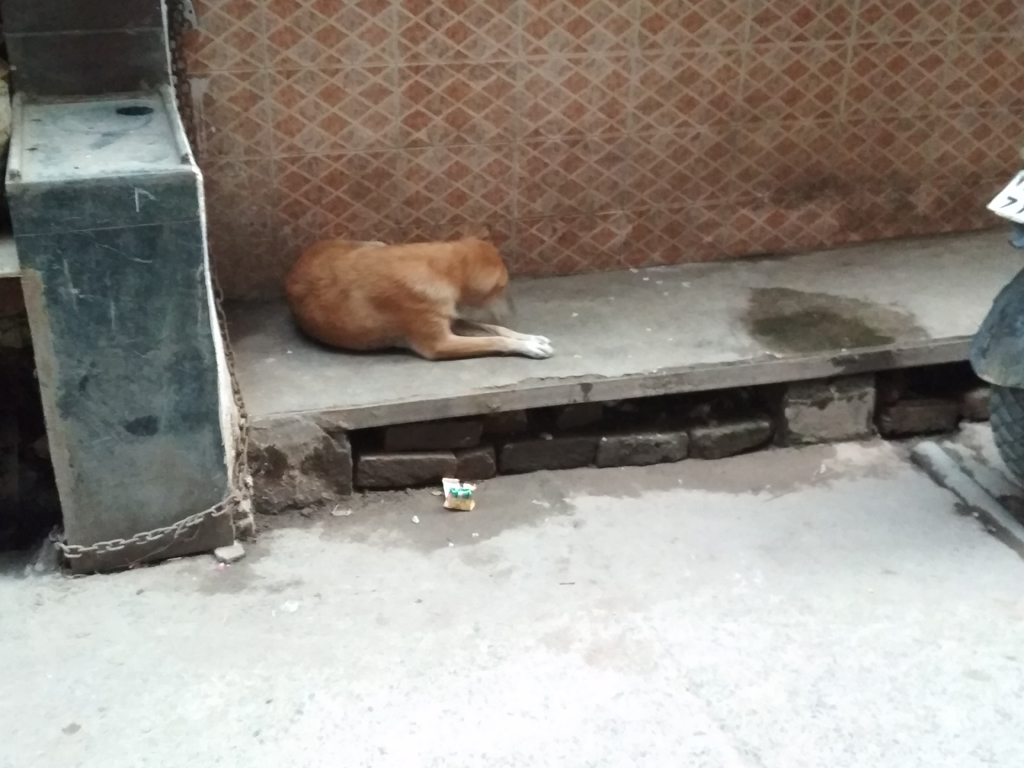dog: (283, 225, 551, 364)
